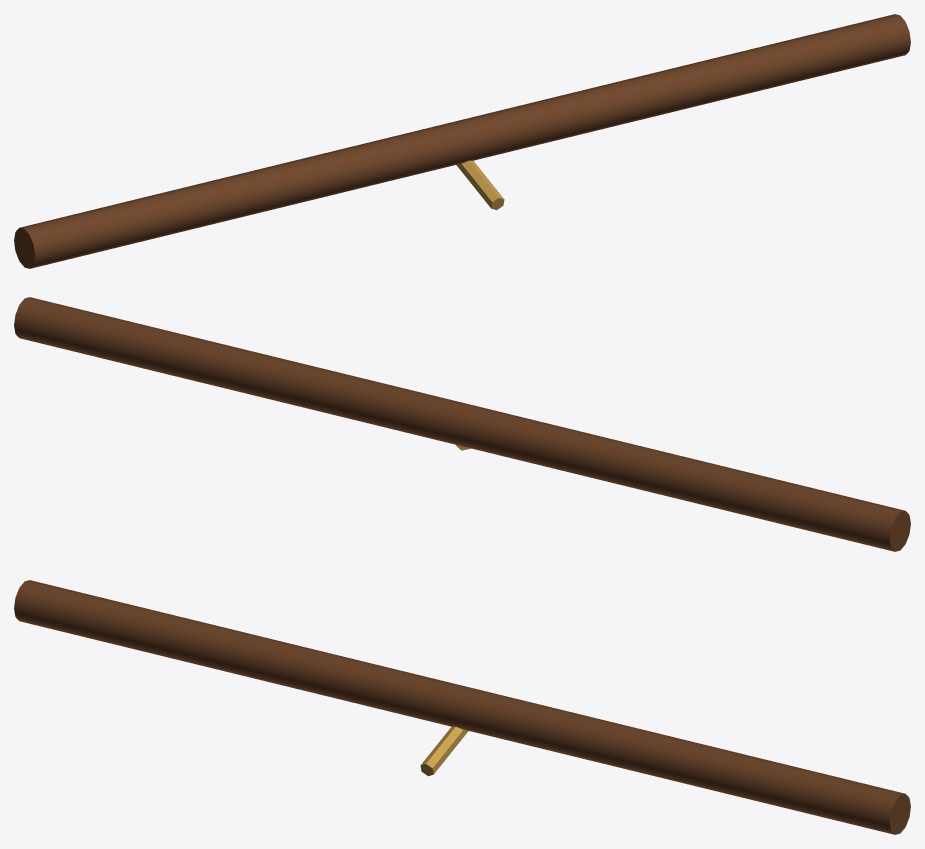
File: circulation.balustrade.wall_rail.glb
3 views of the same model, one above another, from view 1: azimuth 30°, elevation 25°; view 2: azimuth 150°, elevation 25°; view 3: azimuth 330°, elevation 25° (orthographic).
Parts seen in each view (by area): view 1: main__hardwood, main__brass; view 2: main__hardwood; view 3: main__hardwood, main__brass.
Part boxes in pixels (<box>): main__hardwood: <box>14,14,910,268</box>; main__brass: <box>456,160,504,210</box>; main__hardwood: <box>14,297,910,551</box>; main__hardwood: <box>14,580,910,834</box>; main__brass: <box>420,726,468,776</box>.
Size of the model in its own units: 1 by 0.0687 by 0.0932.
